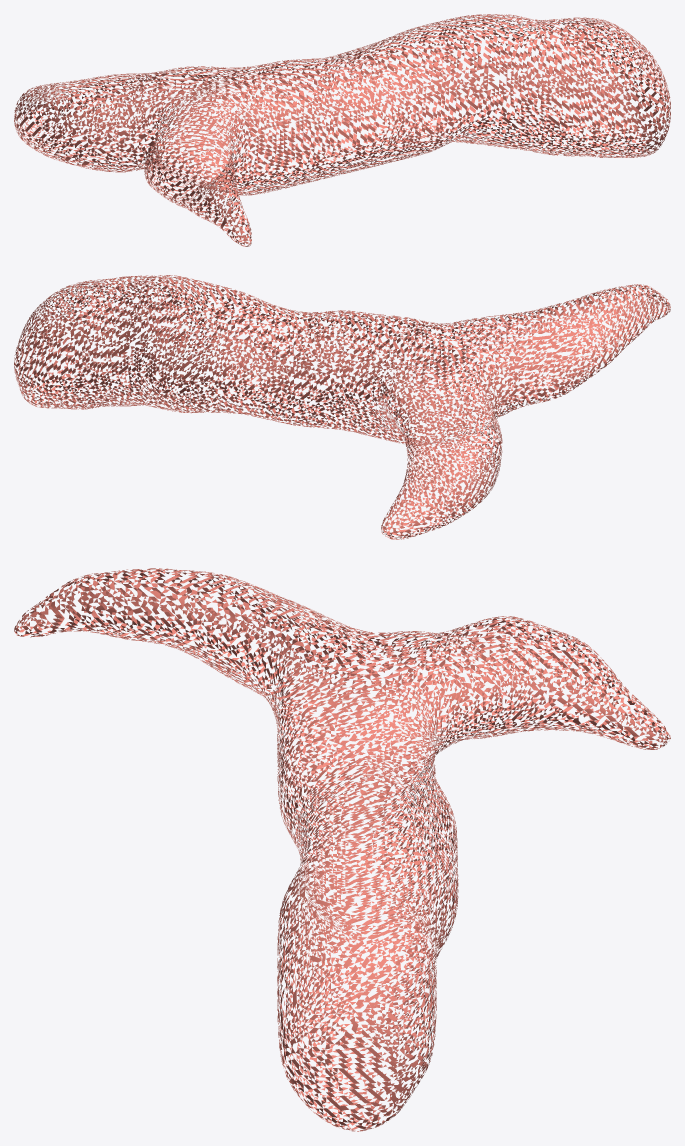
The model's file is diseased.glb.
The picture shows the model from 3 angles, top to bottom: view 1: azimuth 30°, elevation 25°; view 2: azimuth 150°, elevation 25°; view 3: azimuth 270°, elevation 25°; orthographic projection. The views are drawn at different scales.
Size of the model in its own units: 108 by 34.32 by 86.2.
